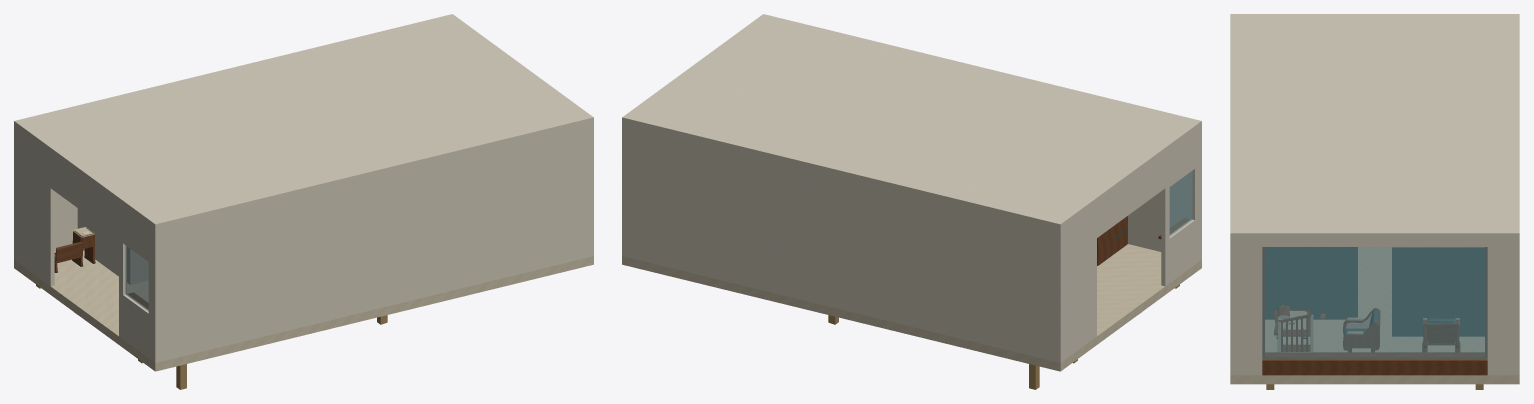
Rendered from QuietGroveBank_523_r001.glb.
3 renders of one model, left to right at view 1: azimuth 30°, elevation 25°; view 2: azimuth 150°, elevation 25°; view 3: azimuth 270°, elevation 25°, orthographic. The views are drawn at different scales.
Visible parts, largest first — view 1: QG523_Ceiling, QG523_NorthSide, QG523_RoomFloor, QG523_EntryShoulderSouth, QG523_EntryHeader, QG523_StreetWindowLower, QG523_WashEntrySide, QG523_SouthSide, QG523_StreetWindowUpper, QG523_ScreenedStreetGlass; view 2: QG523_Ceiling, QG523_SouthSide, QG523_RoomFloor, QG523_EntryShoulderSouth, QG523_NorthSide, QG523_EntryHeader, QG523_StreetWindowLower, QG523_StreetWindowUpper, QG523_ScreenedStreetGlass, QG523_EntryPrivacyDogleg; view 3: QG523_Ceiling, QGB523_PrivateCourtGlass, QG523_RoomFloor, QG523_Cocoon02_RearLiner, QG523_Cocoon01_RearLiner, QGB523_CourtNorthPier, QGB523_CourtSouthPier, QGB523_CourtSill, QGB523_CourtHeader, QGB523_DeepReveal_0.34, QG523_NorthSide, QG523_SouthSide (+4 smaller).
Part boxes in pixels (x1,y1,x2,y2): QG523_Ceiling: [14, 14, 593, 229]; QG523_NorthSide: [153, 123, 593, 362]; QG523_RoomFloor: [14, 250, 593, 371]; QG523_EntryShoulderSouth: [16, 128, 54, 286]; QG523_EntryHeader: [49, 152, 119, 238]; QG523_StreetWindowLower: [119, 292, 152, 360]; QG523_WashEntrySide: [77, 208, 133, 284]; QG523_SouthSide: [14, 127, 77, 260]; QG523_StreetWindowUpper: [119, 204, 152, 264]; QG523_ScreenedStreetGlass: [125, 245, 148, 310]; QG523_Ceiling: [622, 14, 1201, 229]; QG523_SouthSide: [622, 123, 1062, 362]; QG523_RoomFloor: [622, 244, 1201, 371]; QG523_EntryShoulderSouth: [1063, 204, 1096, 360]; QG523_NorthSide: [1128, 127, 1201, 260]; QG523_EntryHeader: [1096, 152, 1166, 237]; QG523_StreetWindowLower: [1161, 217, 1199, 286]; QG523_StreetWindowUpper: [1163, 128, 1199, 190]; QG523_ScreenedStreetGlass: [1169, 171, 1192, 235]; QG523_EntryPrivacyDogleg: [1097, 216, 1127, 265]; QG523_Ceiling: [1230, 14, 1519, 238]; QGB523_PrivateCourtGlass: [1262, 247, 1487, 359]; QG523_RoomFloor: [1230, 247, 1519, 384]; QG523_Cocoon02_RearLiner: [1394, 248, 1484, 336]; QG523_Cocoon01_RearLiner: [1265, 247, 1355, 319]; QGB523_CourtNorthPier: [1487, 239, 1519, 375]; QGB523_CourtSouthPier: [1230, 239, 1262, 375]; QGB523_CourtSill: [1262, 358, 1487, 375]; QGB523_CourtHeader: [1262, 239, 1487, 246]; QGB523_DeepReveal_0.34: [1265, 352, 1484, 357]; QG523_NorthSide: [1230, 239, 1234, 375]; QG523_SouthSide: [1515, 239, 1519, 375].
Bounding box in the file's own units: 12.9 × 5.31 × 7.2.
73 materials, 49 textured.
